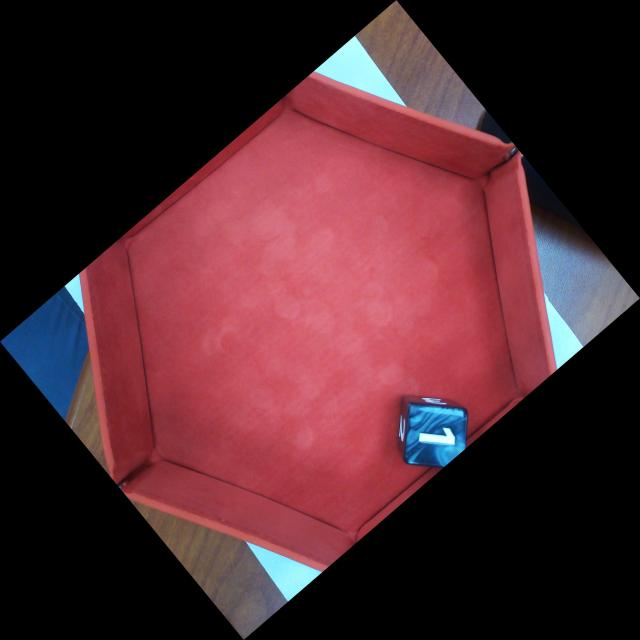dice: (401, 403, 472, 471)
